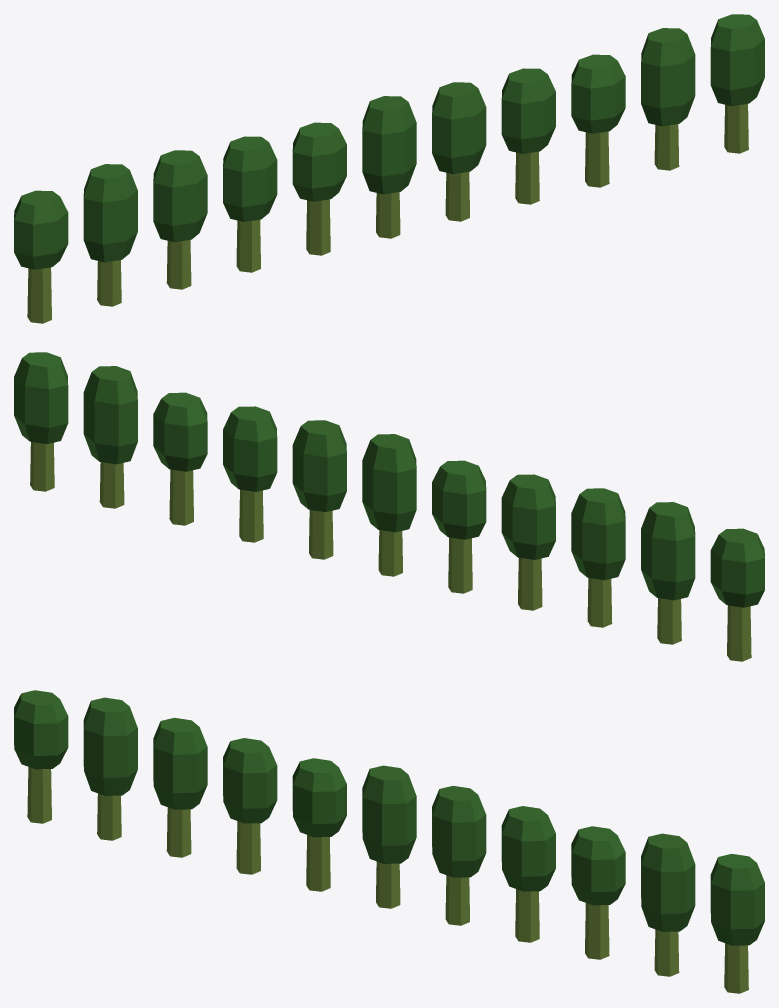
File: treekin_wall_broken.glb
3 renders of one model, top to bottom at view 1: azimuth 30°, elevation 25°; view 2: azimuth 150°, elevation 25°; view 3: azimuth 330°, elevation 25°, orthographic.
Visible parts, largest first — view 1: treekin_wall_piece1, treekin_wall_piece4, treekin_wall_piece2, treekin_wall_piece8, treekin_wall_piece6, treekin_wall_piece7, treekin_wall_piece3, treekin_wall_piece9, treekin_wall_piece13, treekin_wall_piece0, treekin_wall_piece11, treekin_wall_piece5 (+1 smaller); view 2: treekin_wall_piece2, treekin_wall_piece1, treekin_wall_piece7, treekin_wall_piece4, treekin_wall_piece3, treekin_wall_piece10, treekin_wall_piece6, treekin_wall_piece11, treekin_wall_piece8, treekin_wall_piece5, treekin_wall_piece13, treekin_wall_piece0 (+1 smaller); view 3: treekin_wall_piece1, treekin_wall_piece2, treekin_wall_piece4, treekin_wall_piece7, treekin_wall_piece8, treekin_wall_piece3, treekin_wall_piece6, treekin_wall_piece9, treekin_wall_piece5, treekin_wall_piece13, treekin_wall_piece0, treekin_wall_piece11 (+2 smaller).
Boxes of the visible parts, box(x1,y1,x2,y2) form: treekin_wall_piece1: box(571, 30, 695, 181); treekin_wall_piece4: box(14, 167, 129, 323); treekin_wall_piece2: box(88, 150, 207, 306); treekin_wall_piece8: box(367, 86, 469, 221); treekin_wall_piece6: box(223, 129, 337, 235); treekin_wall_piece7: box(656, 14, 764, 153); treekin_wall_piece3: box(443, 68, 555, 194); treekin_wall_piece9: box(524, 70, 609, 184); treekin_wall_piece13: box(236, 201, 330, 272); treekin_wall_piece0: box(309, 169, 407, 238); treekin_wall_piece11: box(515, 116, 607, 204); treekin_wall_piece5: box(237, 123, 381, 238); treekin_wall_piece2: box(571, 488, 690, 644); treekin_wall_piece1: box(85, 366, 207, 508); treekin_wall_piece7: box(14, 352, 107, 491); treekin_wall_piece4: box(663, 502, 764, 661); treekin_wall_piece3: box(187, 410, 329, 526); treekin_wall_piece10: box(367, 451, 458, 569); treekin_wall_piece6: box(456, 460, 578, 576); treekin_wall_piece11: box(162, 428, 263, 542); treekin_wall_piece8: box(320, 422, 416, 559); treekin_wall_piece5: box(441, 461, 535, 587); treekin_wall_piece13: box(448, 550, 542, 610); treekin_wall_piece0: box(378, 531, 471, 576); treekin_wall_piece1: box(571, 826, 693, 976); treekin_wall_piece2: box(89, 698, 207, 857); treekin_wall_piece4: box(14, 690, 115, 823); treekin_wall_piece7: box(671, 835, 764, 993); treekin_wall_piece8: box(362, 765, 456, 924); treekin_wall_piece3: box(447, 786, 555, 897); treekin_wall_piece6: box(200, 730, 322, 829); treekin_wall_piece9: box(508, 816, 600, 959); treekin_wall_piece5: box(256, 758, 362, 851); treekin_wall_piece13: box(227, 806, 330, 891); treekin_wall_piece0: box(298, 822, 402, 908); treekin_wall_piece11: box(515, 856, 609, 959).
Bounding box in the file's own units: 6.08 × 1.01 × 0.3315.
